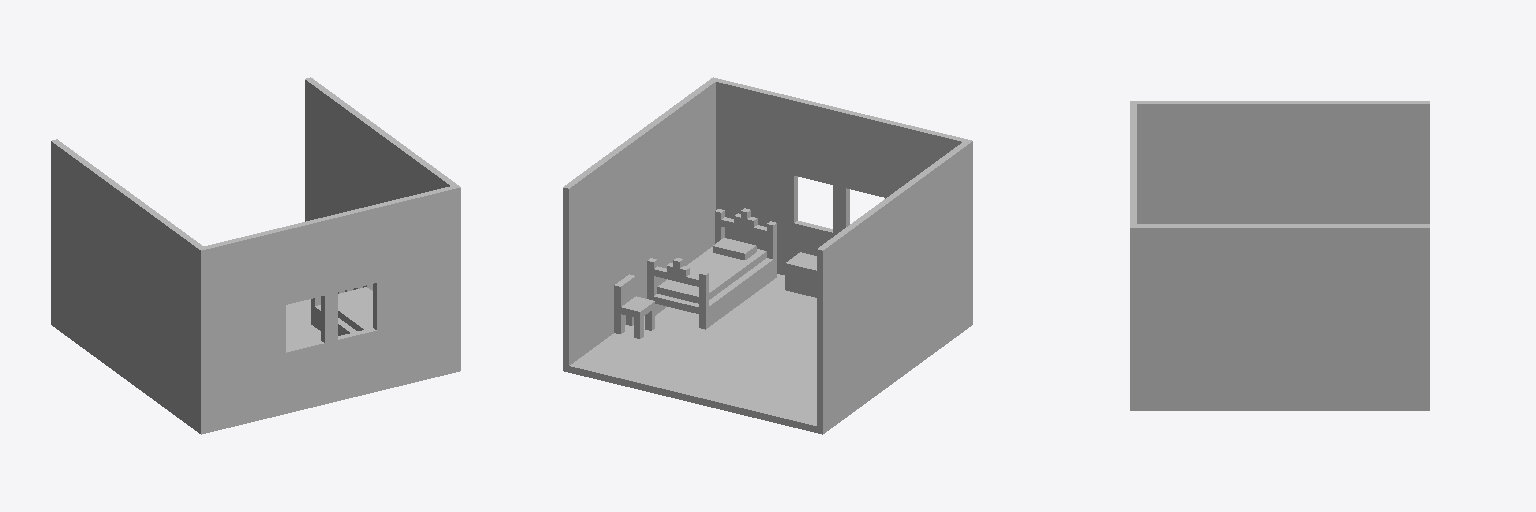
The model's file is room.obj.
3 renders of one model, left to right at view 1: azimuth 30°, elevation 25°; view 2: azimuth 150°, elevation 25°; view 3: azimuth 270°, elevation 25°, orthographic.
Visible parts, largest first — view 1: object 1; view 2: object 1; view 3: object 1.
Boxes of the visible parts, box(x1,y1,x2,y2) form: object 1: box(51, 77, 460, 434); object 1: box(563, 77, 972, 434); object 1: box(1130, 101, 1429, 410).
Bounding box in the file's own units: 8 × 5.4 × 8.